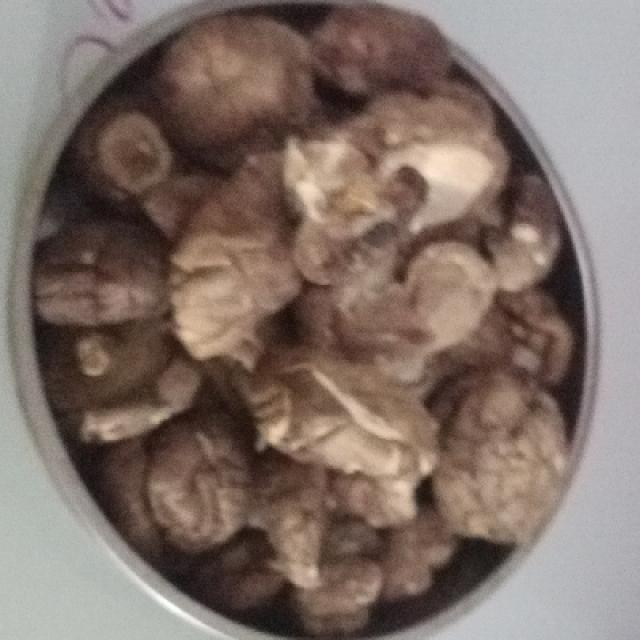Lentinus edodes: (22, 15, 568, 625)
